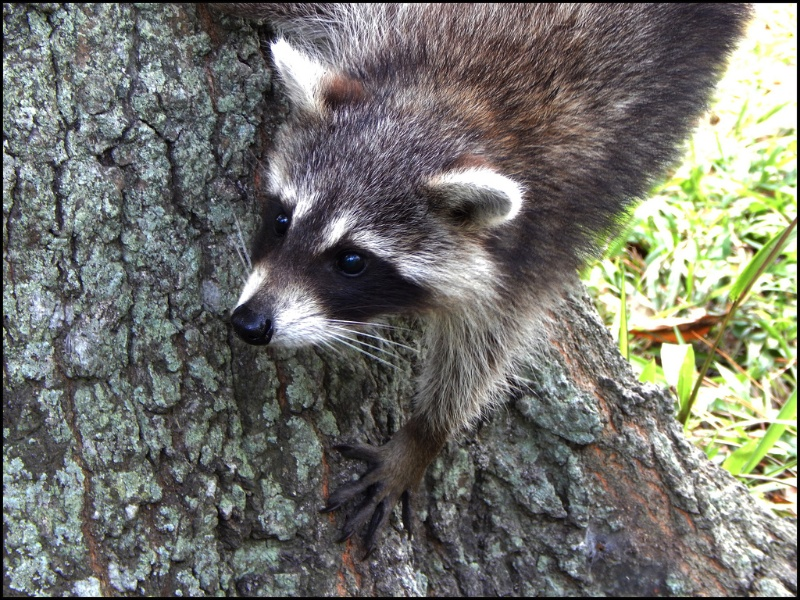raccoon: (224, 1, 753, 564)
